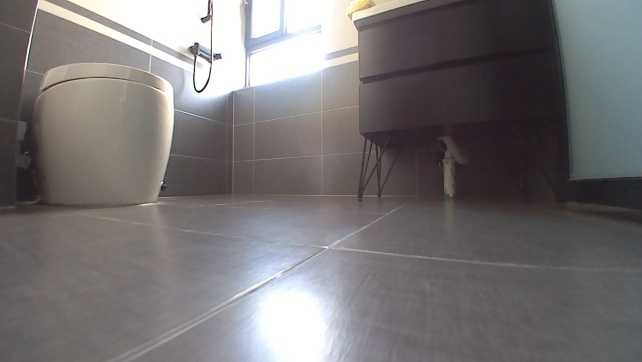toilet: (27, 60, 175, 205)
